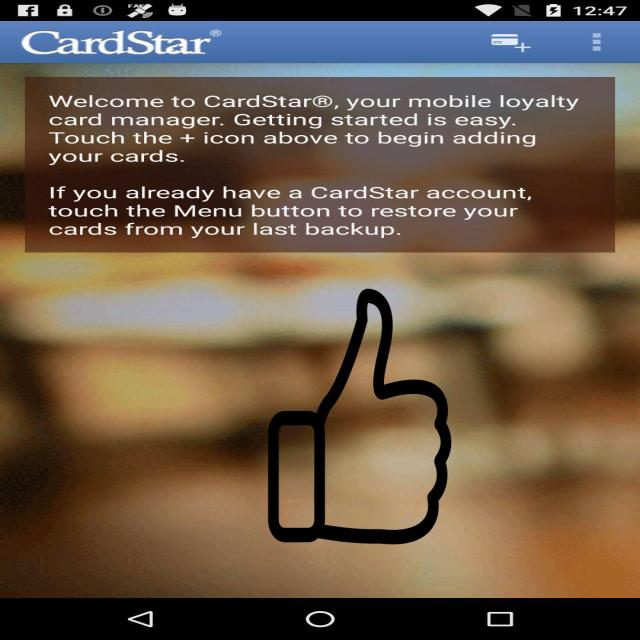privacy zuckering: (265, 289, 454, 544)
